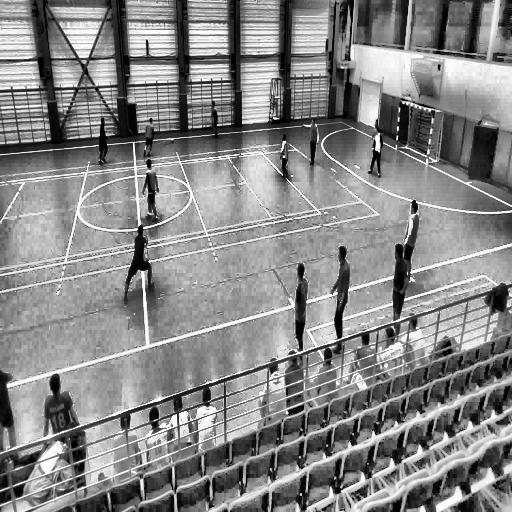ball: (170, 137, 176, 145)
player: (123, 224, 154, 304), (329, 244, 350, 352), (392, 243, 410, 329), (293, 262, 308, 358), (402, 200, 419, 275), (142, 158, 159, 224), (367, 124, 382, 178), (97, 116, 110, 166), (308, 117, 319, 167), (279, 132, 290, 180), (143, 115, 155, 159), (210, 99, 220, 141), (372, 114, 380, 151)
